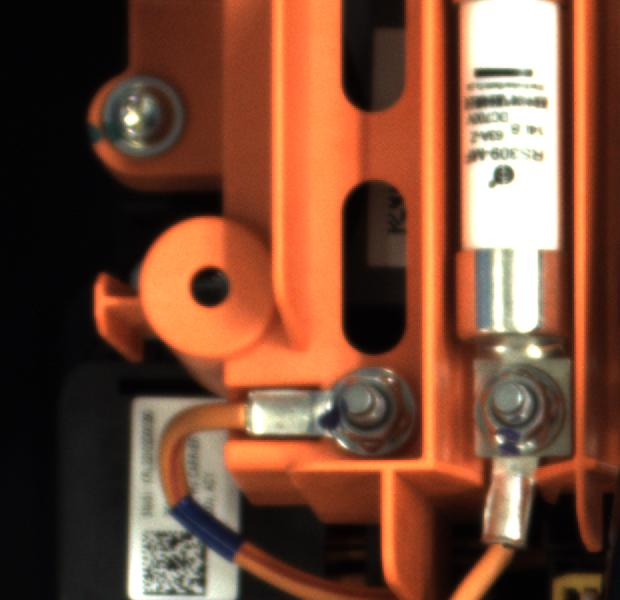screw_m: (84, 70, 204, 168)
screw_s: (323, 357, 428, 462), (477, 363, 567, 455)
